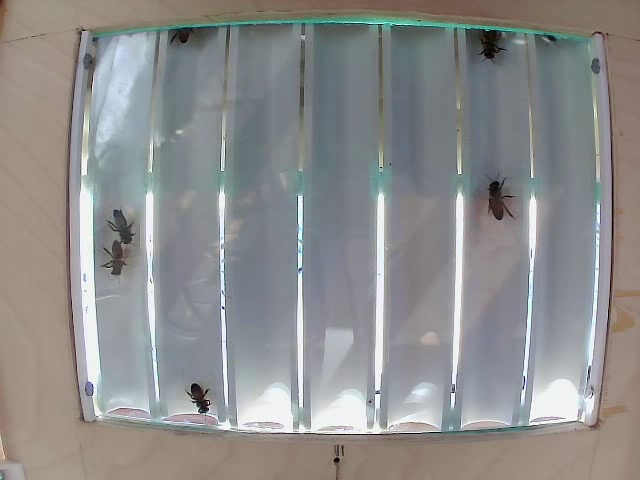bee: (100, 216, 145, 251), (95, 246, 137, 282), (184, 379, 217, 409), (485, 184, 507, 223), (468, 34, 494, 66)
